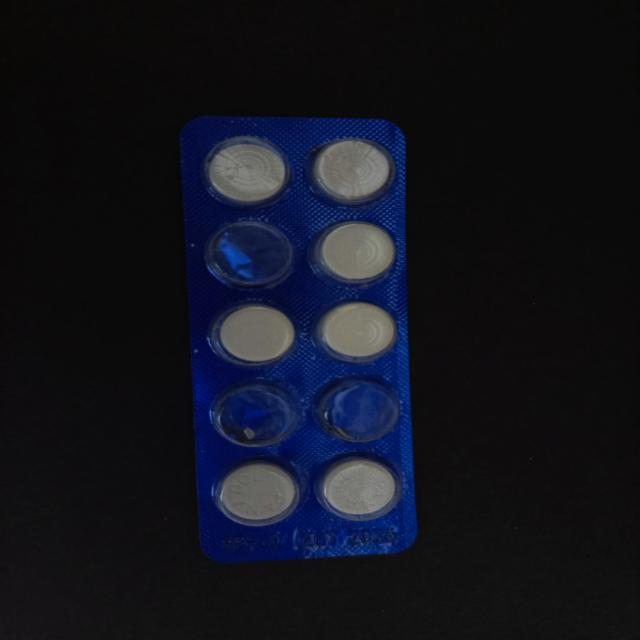defect: (198, 218, 299, 294), (206, 378, 304, 449), (312, 375, 406, 446)
